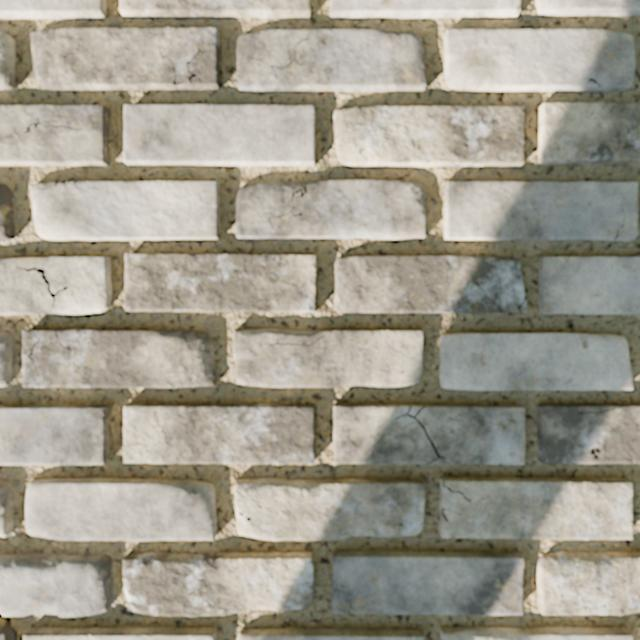brick: (332, 551, 523, 614), (444, 29, 634, 91), (439, 477, 632, 538), (124, 553, 313, 615), (237, 29, 425, 91), (31, 27, 218, 89), (124, 104, 314, 165), (235, 478, 423, 539), (334, 106, 524, 166), (444, 181, 637, 240), (26, 479, 215, 539), (124, 404, 314, 463), (237, 180, 425, 239), (30, 181, 218, 240), (125, 254, 315, 311), (233, 329, 422, 386), (440, 333, 632, 389), (23, 330, 214, 386), (335, 255, 524, 311), (536, 551, 639, 614), (0, 105, 107, 165), (0, 257, 111, 314), (0, 406, 108, 464), (417, 405, 524, 463), (538, 102, 639, 162), (334, 404, 435, 463), (538, 404, 639, 462), (539, 257, 639, 313), (331, 0, 519, 18), (120, 0, 309, 17), (441, 626, 632, 639), (24, 628, 215, 639), (0, 0, 105, 18), (238, 629, 423, 639), (536, 0, 639, 15), (0, 32, 15, 90), (0, 477, 14, 537), (0, 183, 14, 239), (0, 331, 13, 387), (0, 627, 12, 639), (411, 405, 423, 414), (521, 304, 525, 311)
broken_brick: (0, 553, 111, 617)
crack: (395, 405, 444, 464), (471, 275, 502, 313), (54, 329, 80, 369), (26, 329, 40, 369), (36, 179, 79, 191), (235, 489, 262, 508), (577, 404, 623, 414), (0, 612, 17, 639), (614, 208, 625, 239), (237, 510, 252, 522), (517, 297, 526, 312)
